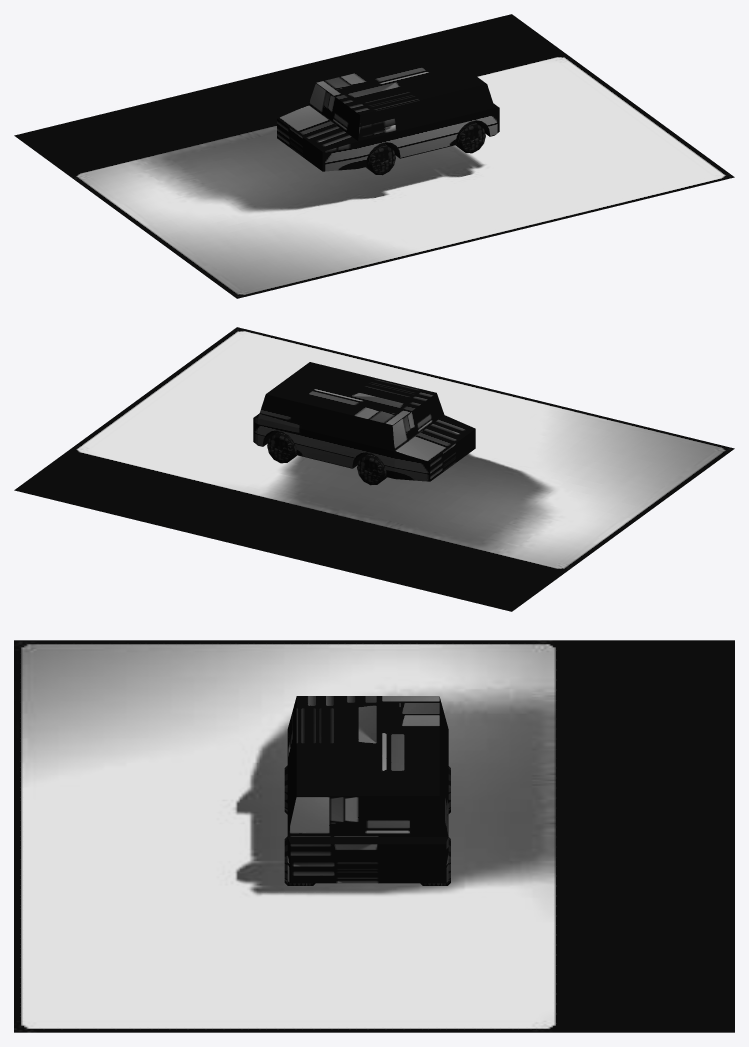
The model's file is auto_1_piso40segs.DAE.
3 renders of one model, top to bottom at view 1: azimuth 30°, elevation 25°; view 2: azimuth 150°, elevation 25°; view 3: azimuth 270°, elevation 25°, orthographic. The views are drawn at different scales.
Visible parts, largest first — view 1: Plane01, auto_1_superior, auto_1_lateral_izq, rueda_1; view 2: Plane01, auto_1_superior, auto_1_lateral_der, rueda_1; view 3: Plane01, auto_1_superior, auto_1_lateral_izq, auto_1_lateral_der, rueda_1.
Boxes of the visible parts, box(x1,y1,x2,y2) form: Plane01: box(14, 14, 734, 298); auto_1_superior: box(277, 52, 498, 171); auto_1_lateral_izq: box(322, 84, 499, 171); rueda_1: box(366, 121, 485, 175); Plane01: box(14, 327, 734, 611); auto_1_superior: box(253, 362, 475, 481); auto_1_lateral_der: box(253, 394, 430, 481); rueda_1: box(267, 431, 386, 485); Plane01: box(14, 640, 734, 1032); auto_1_superior: box(287, 696, 448, 883); auto_1_lateral_izq: box(287, 697, 296, 882); auto_1_lateral_der: box(439, 697, 448, 882); rueda_1: box(284, 765, 450, 885).
Bounding box in the file's own units: 782 × 607 × 103.
Materials: 5 (5 with a texture image).
